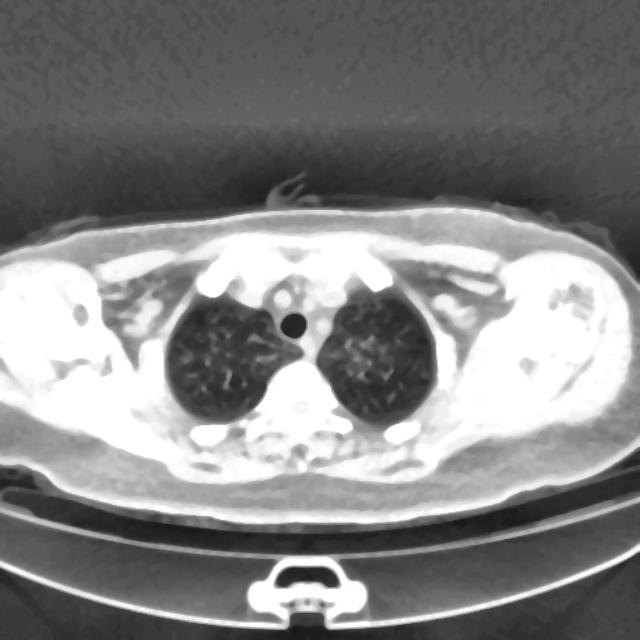covid: (0, 188, 639, 532)
